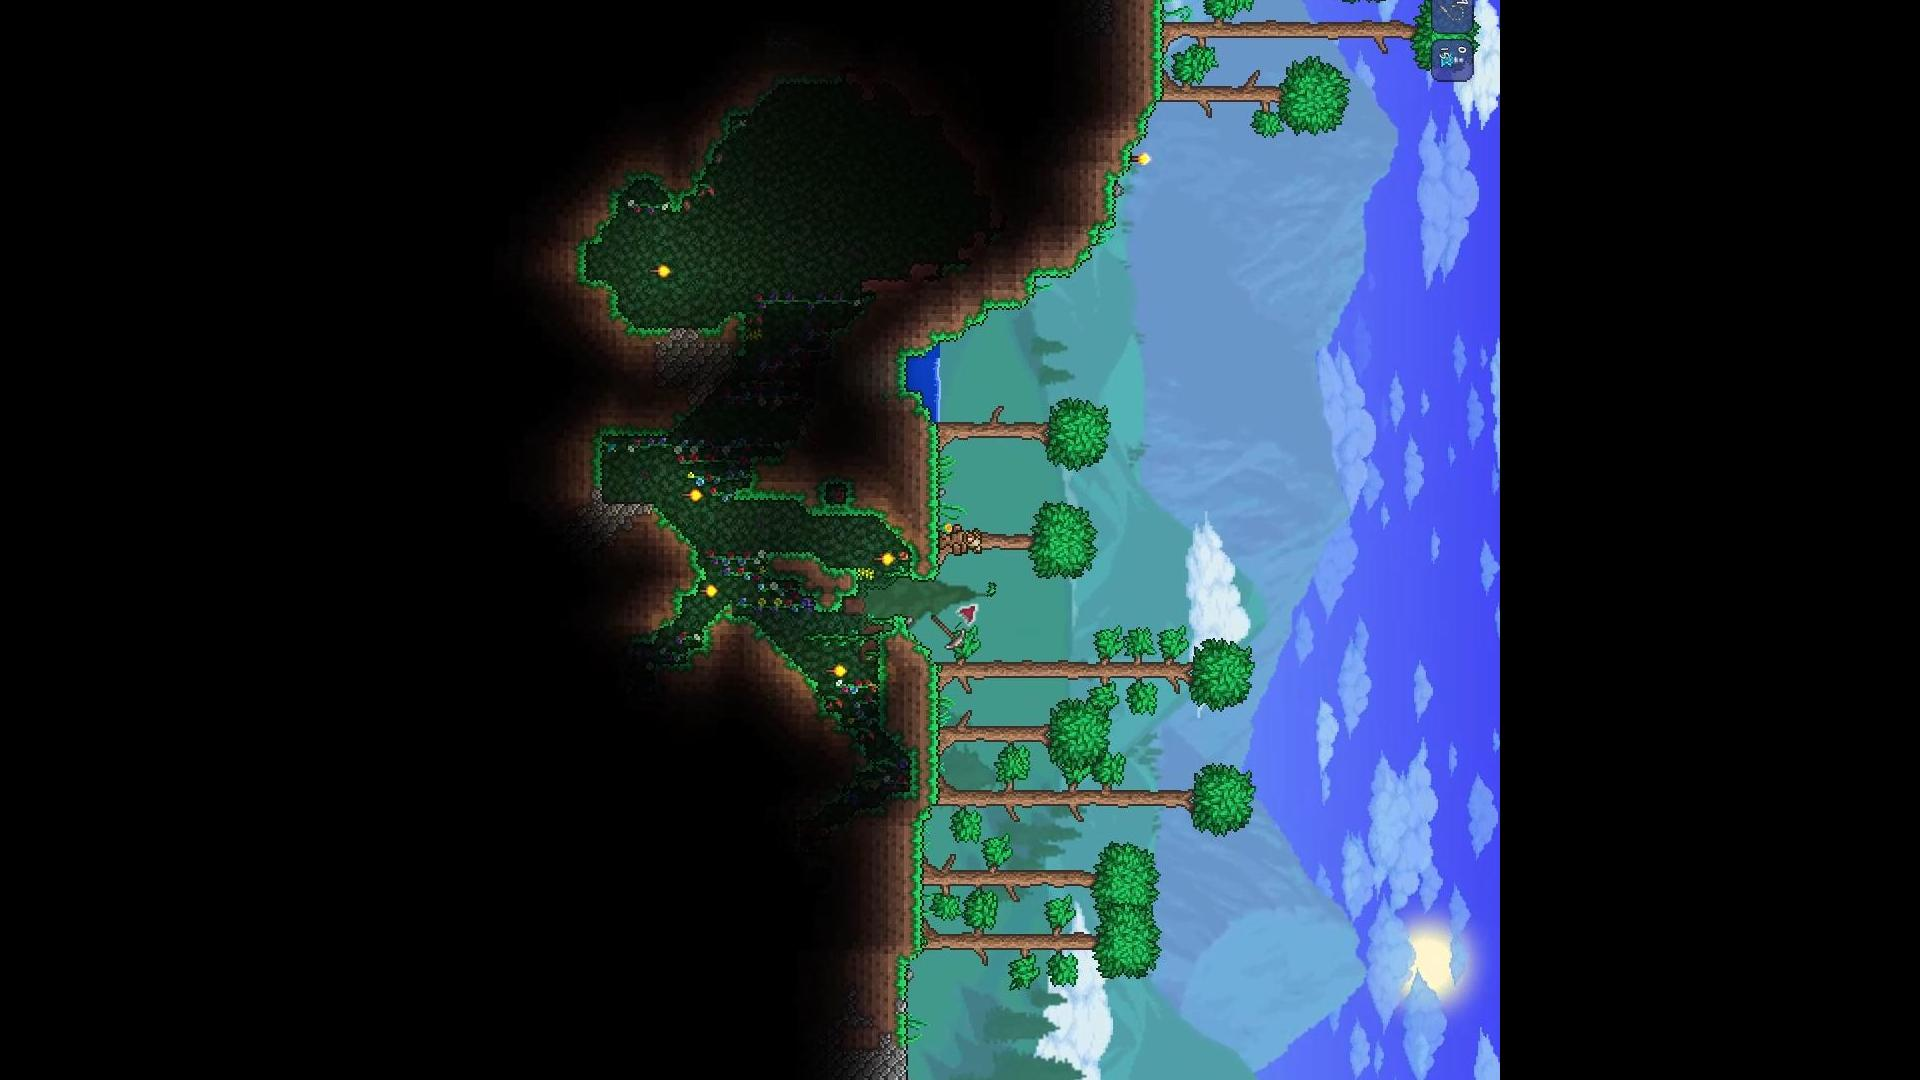dirt: (1058, 116, 1146, 276), (680, 88, 774, 215), (899, 609, 951, 808), (844, 463, 922, 572), (945, 269, 1043, 338), (899, 814, 939, 961), (1134, 0, 1176, 127), (723, 481, 851, 522), (922, 418, 956, 570), (604, 173, 688, 218), (599, 298, 665, 347), (575, 222, 613, 298), (880, 947, 910, 1043)
